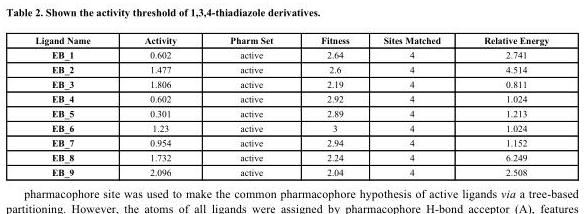table: (34, 34, 548, 177)
table column: (365, 34, 461, 177), (202, 34, 296, 177), (461, 34, 548, 177), (116, 34, 202, 177), (34, 34, 116, 177), (296, 34, 365, 177)
table column header: (34, 34, 548, 47)
table row: (34, 61, 548, 76), (34, 76, 548, 91), (34, 105, 548, 120), (34, 120, 548, 135), (34, 149, 548, 164), (34, 47, 548, 61), (34, 91, 548, 105), (34, 135, 548, 149), (34, 34, 548, 47), (34, 164, 548, 177)
